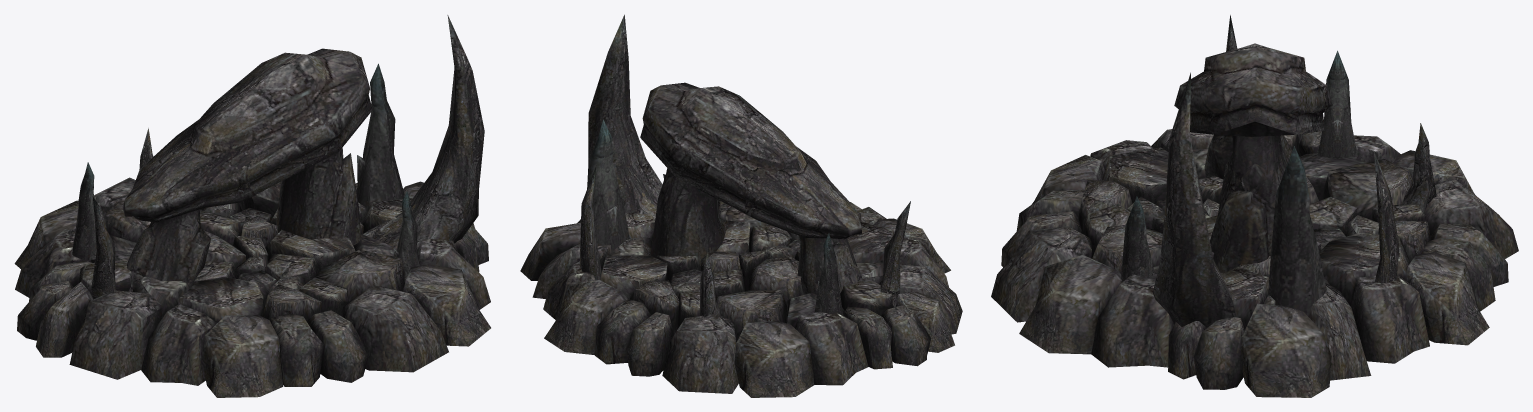
Rendered from stone_grave_001.fbx.
3 views of the same model, side by side, from view 1: azimuth 30°, elevation 25°; view 2: azimuth 150°, elevation 25°; view 3: azimuth 270°, elevation 25° (orthographic). The views are drawn at different scales.
Visible parts, largest first — view 1: stone_grave_001; view 2: stone_grave_001; view 3: stone_grave_001.
Part boxes in pixels (<box>): stone_grave_001: <box>14,15,490,397</box>; stone_grave_001: <box>520,14,962,397</box>; stone_grave_001: <box>991,15,1518,397</box>.
Bounding box in the file's own units: 8.25 × 4.61 × 7.54.
